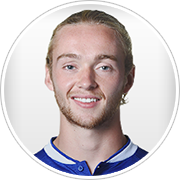smile: (70, 92, 102, 109)
